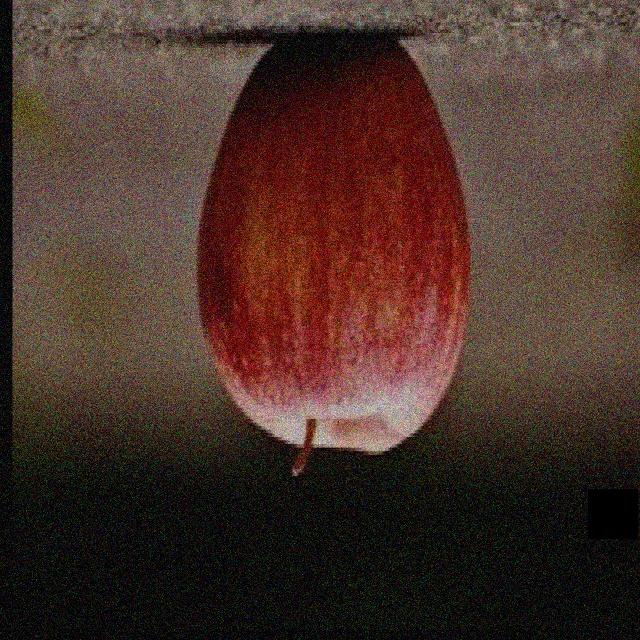red apple: (195, 35, 472, 462)
